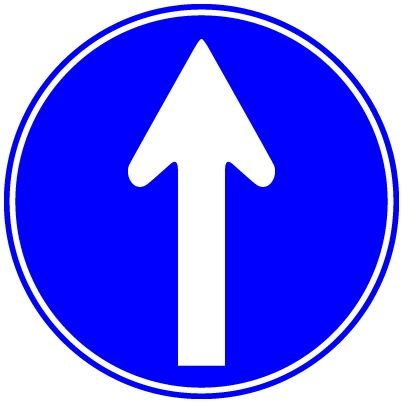Direction_sign: (4, 4, 389, 403)
